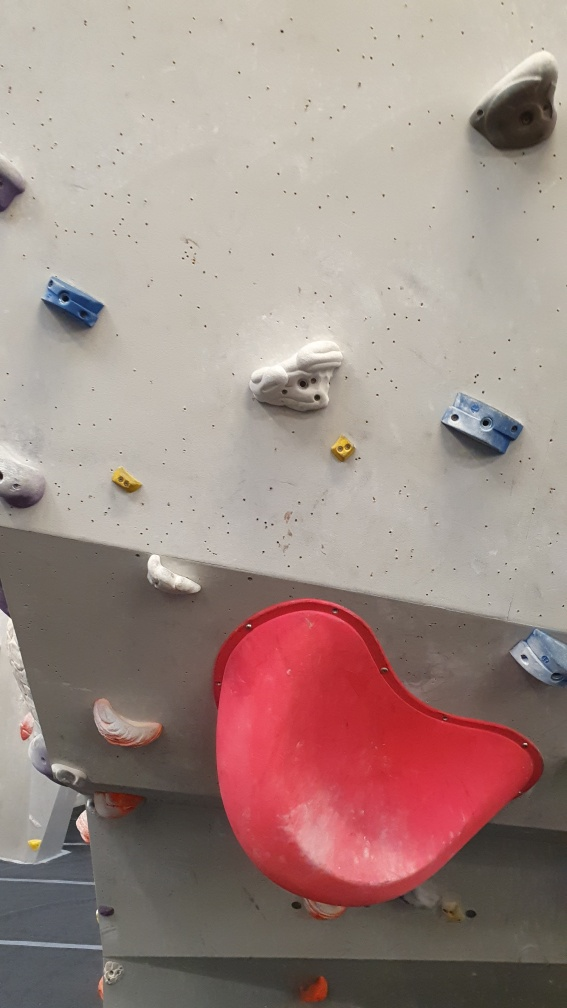Crimp: (109, 464, 141, 493)
Jug: (466, 49, 567, 155), (246, 338, 347, 417), (90, 690, 165, 750), (141, 548, 206, 606)
Pinch: (443, 390, 528, 454), (41, 271, 108, 327), (511, 625, 567, 689), (327, 435, 359, 463)
